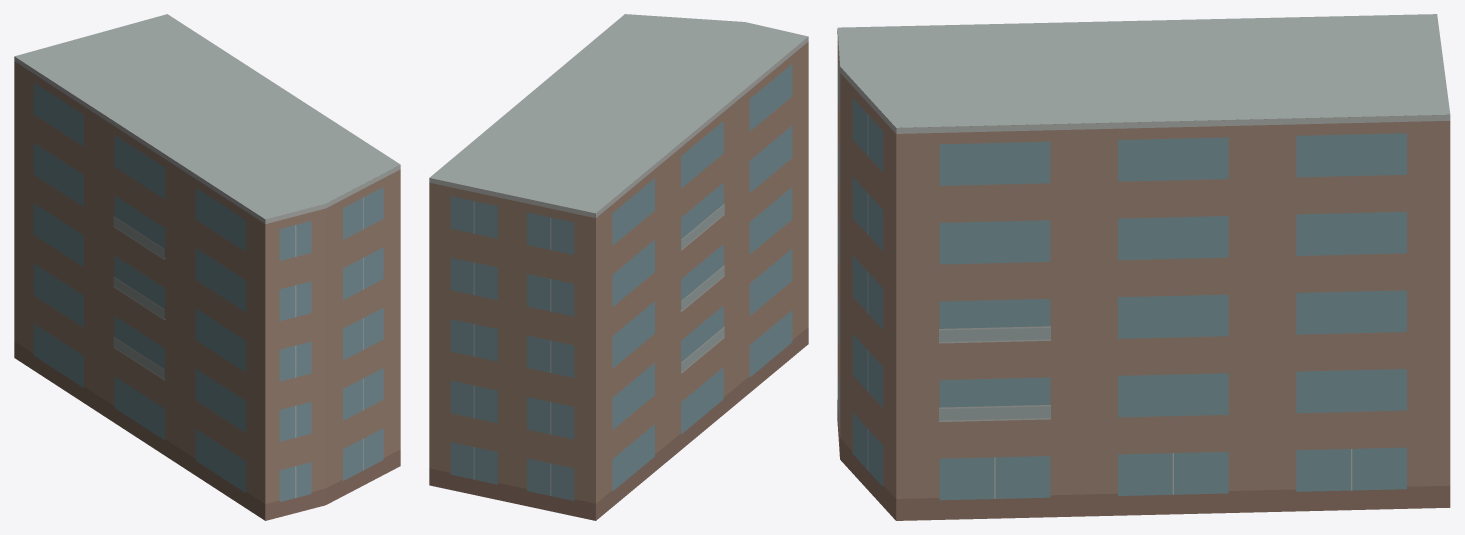
File: survey-upis-32773725.glb
The picture shows the model from 3 angles, left to right: view 1: azimuth 30°, elevation 25°; view 2: azimuth 150°, elevation 25°; view 3: azimuth 270°, elevation 25°; orthographic projection. The views are drawn at different scales.
Visible parts, largest first — view 1: survey-upis-32773725.tmp; view 2: survey-upis-32773725.tmp; view 3: survey-upis-32773725.tmp.
Boxes of the visible parts, x1,y1,x2,y2 form: survey-upis-32773725.tmp: [14, 14, 400, 520]; survey-upis-32773725.tmp: [429, 14, 808, 520]; survey-upis-32773725.tmp: [837, 14, 1450, 520].
Size of the model in its own units: 9.76 by 15.7 by 22.2.
